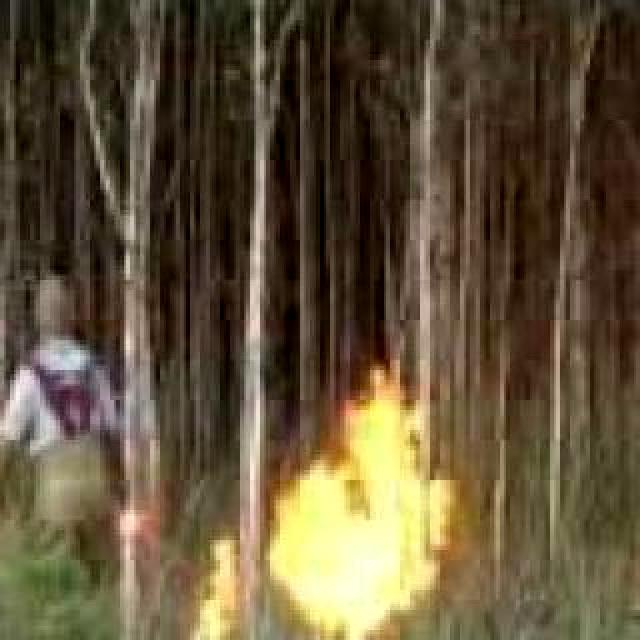fire: (268, 392, 458, 640), (192, 550, 246, 640)
